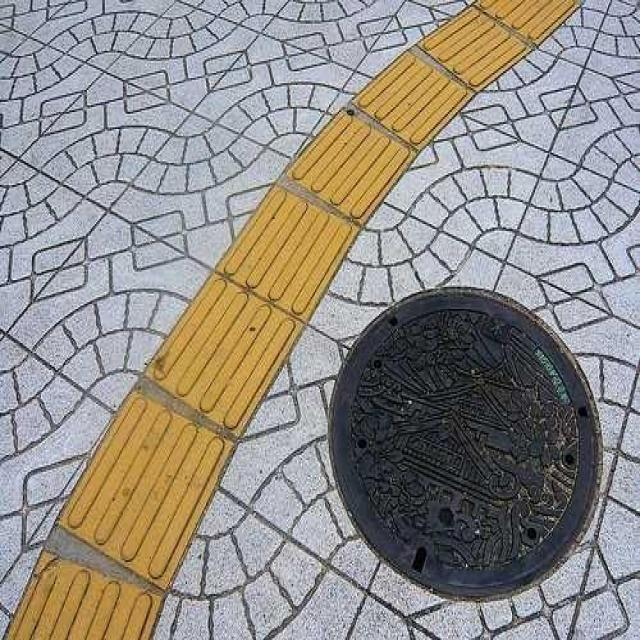manhole: (330, 288, 601, 599)
